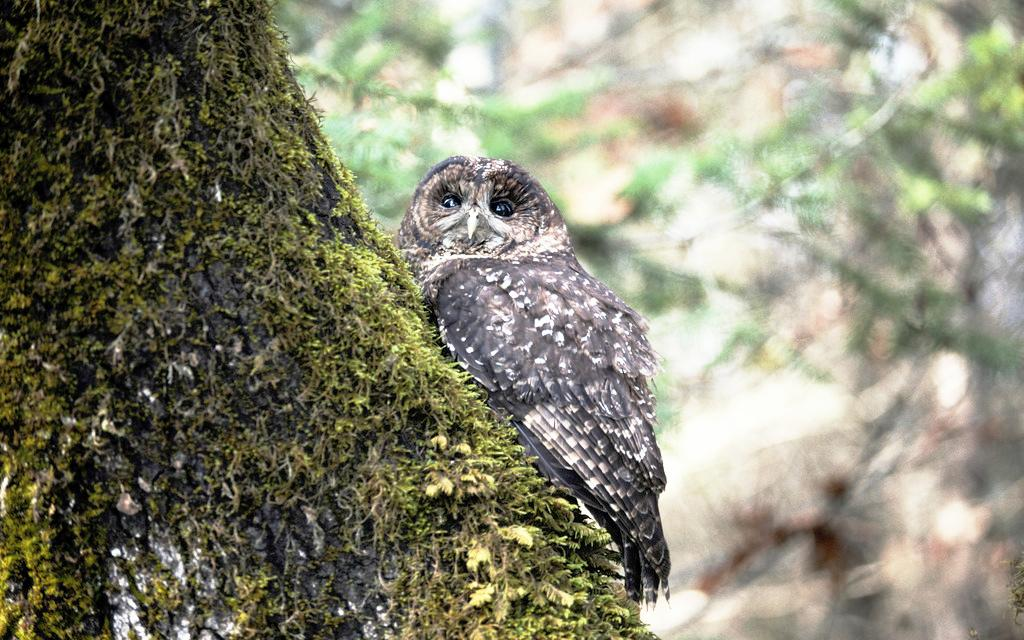Owl: (394, 157, 662, 629)
